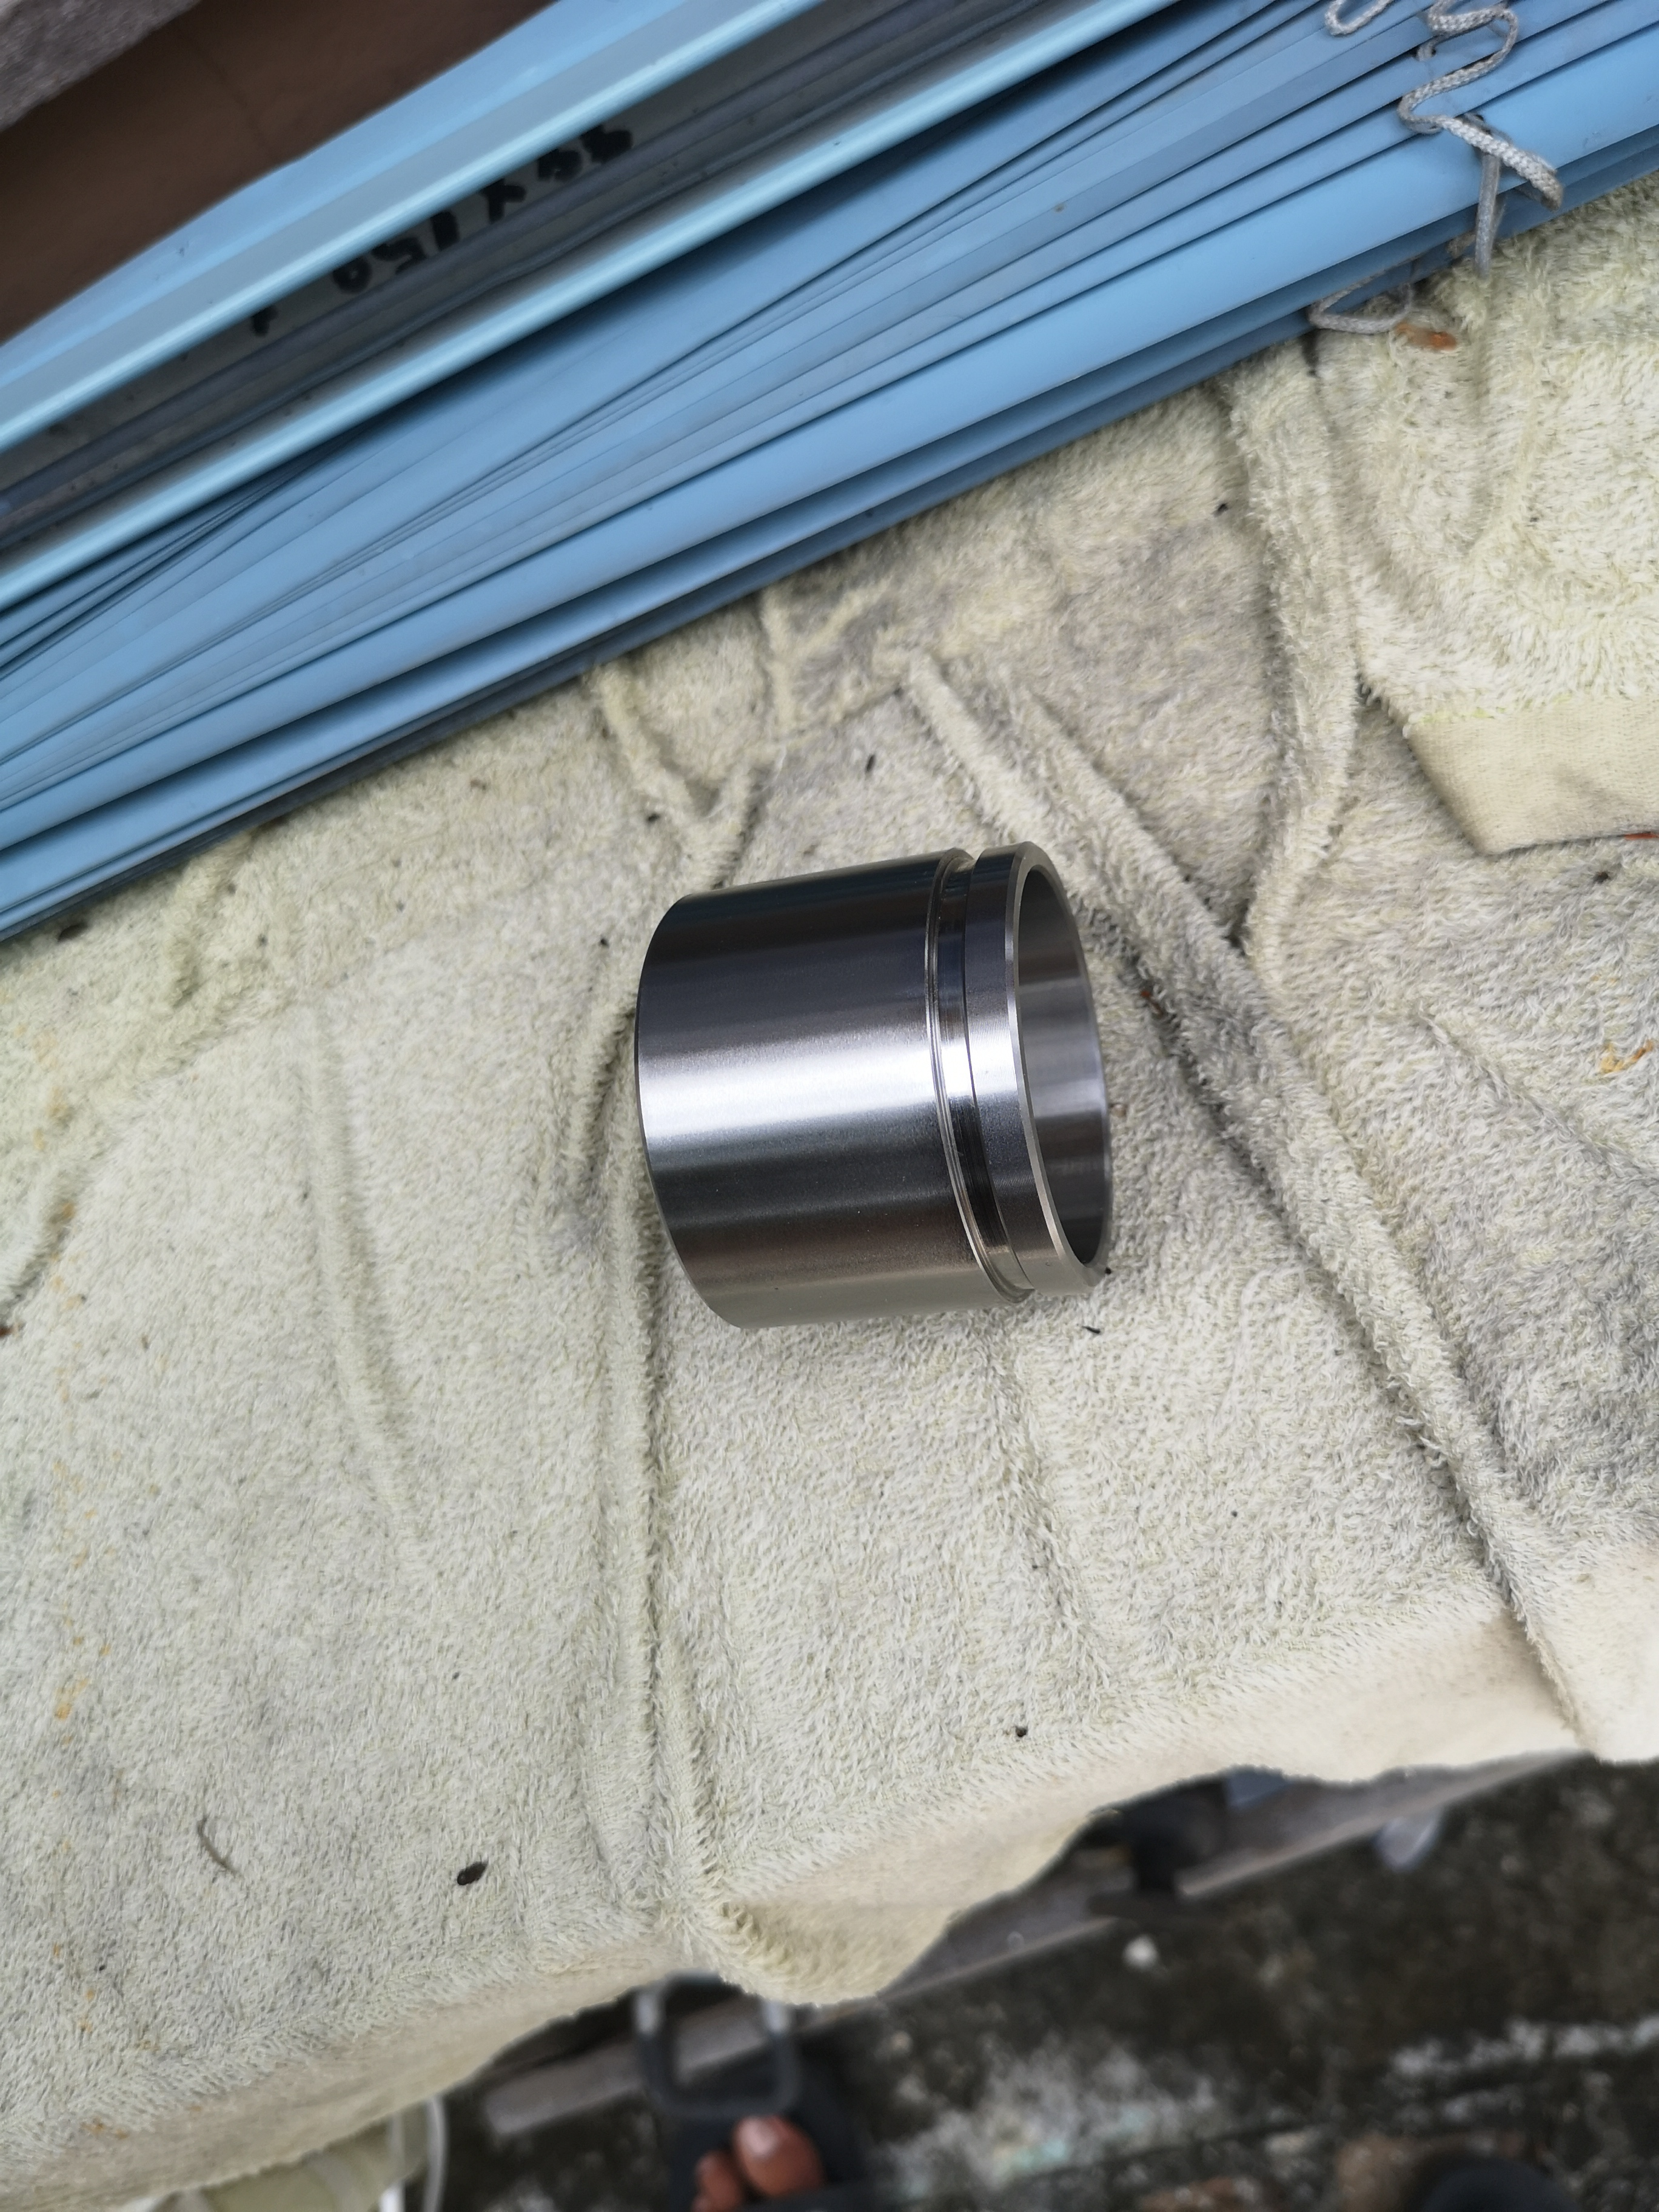ลูกสูบดิสเบรค: (580, 827, 1141, 1388)
